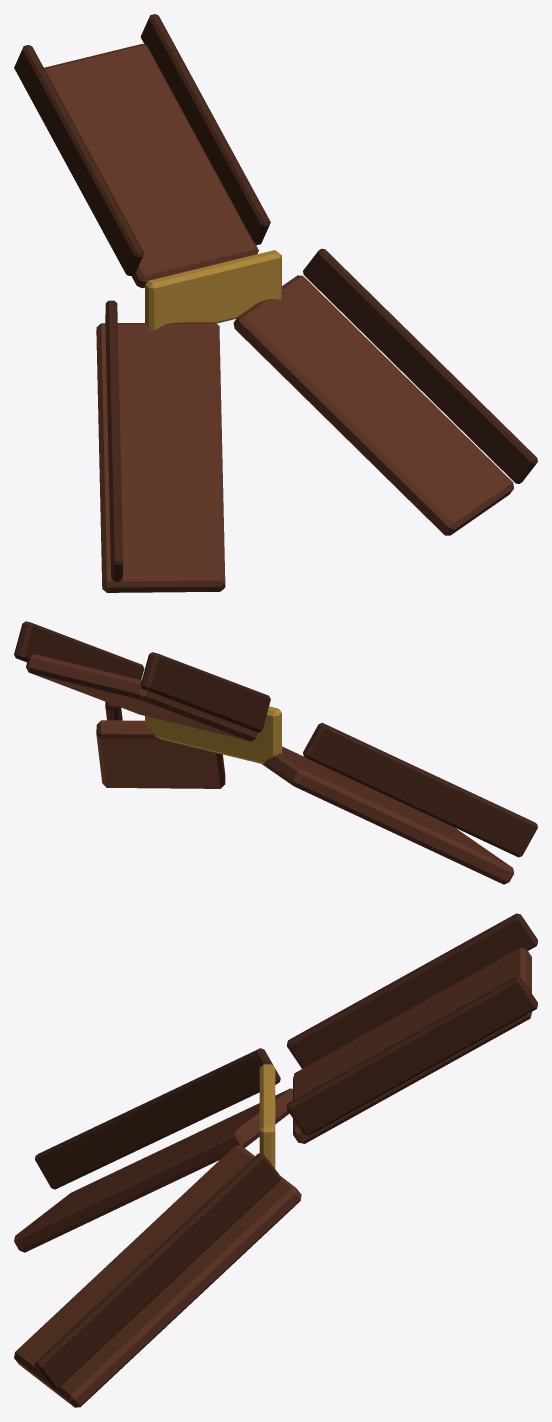
The model's file is chute.glb.
3 renders of one model, top to bottom at view 1: azimuth 30°, elevation 25°; view 2: azimuth 150°, elevation 25°; view 3: azimuth 270°, elevation 25°, orthographic.
Visible parts, largest first — view 1: Body_mesh, Gate_mesh; view 2: Body_mesh, Gate_mesh; view 3: Body_mesh, Gate_mesh.
Part boxes in pixels (bbox=[...]): Body_mesh: bbox=[14, 14, 537, 592]; Gate_mesh: bbox=[145, 250, 281, 330]; Body_mesh: bbox=[14, 621, 537, 884]; Gate_mesh: bbox=[145, 706, 281, 763]; Body_mesh: bbox=[14, 913, 537, 1407]; Gate_mesh: bbox=[259, 1064, 275, 1168].
Bounding box in the file's own units: 1.28 × 1.02 × 1.34.
